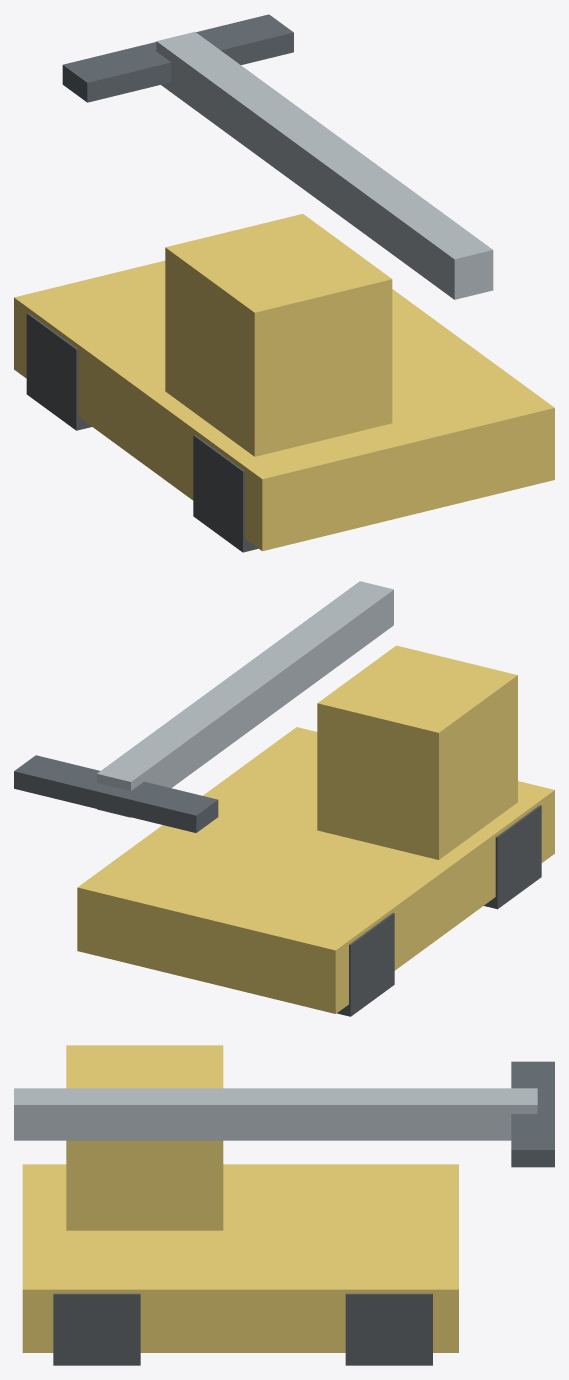
Rendered from reachstacker_lod0.glb.
The picture shows the model from 3 angles, top to bottom: view 1: azimuth 30°, elevation 25°; view 2: azimuth 150°, elevation 25°; view 3: azimuth 270°, elevation 25°; orthographic projection. The views are drawn at different scales.
Visible parts, largest first — view 1: reachstacker-node-0, reachstacker-node-1, reachstacker-node-2, reachstacker-node-3, reachstacker-node-4, reachstacker-node-5; view 2: reachstacker-node-0, reachstacker-node-1, reachstacker-node-2, reachstacker-node-3, reachstacker-node-5, reachstacker-node-4; view 3: reachstacker-node-0, reachstacker-node-2, reachstacker-node-1, reachstacker-node-7, reachstacker-node-6, reachstacker-node-3.
Part boxes in pixels (x1,y1,x2,y2): reachstacker-node-0: (14,260,554,551); reachstacker-node-1: (165,214,392,456); reachstacker-node-2: (156,32,493,299); reachstacker-node-3: (62,14,293,102); reachstacker-node-4: (26,313,91,430); reachstacker-node-5: (193,434,258,552); reachstacker-node-0: (77,727,554,1013); reachstacker-node-1: (317,645,517,859); reachstacker-node-2: (97,581,393,817); reachstacker-node-3: (14,755,218,832); reachstacker-node-5: (484,805,541,909); reachstacker-node-4: (337,913,394,1016); reachstacker-node-0: (22,1164,458,1352); reachstacker-node-2: (14,1088,537,1140); reachstacker-node-1: (66,1045,223,1230); reachstacker-node-7: (53,1293,140,1365); reachstacker-node-6: (345,1293,432,1365); reachstacker-node-3: (511,1061,554,1167).
Size of the model in its own units: 3.62 by 2.92 by 6.2.
